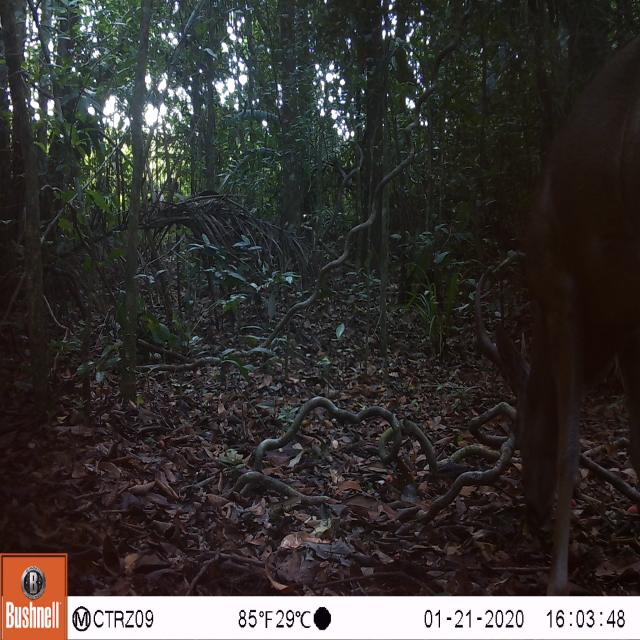White-tailed Deer: (469, 29, 640, 593)
